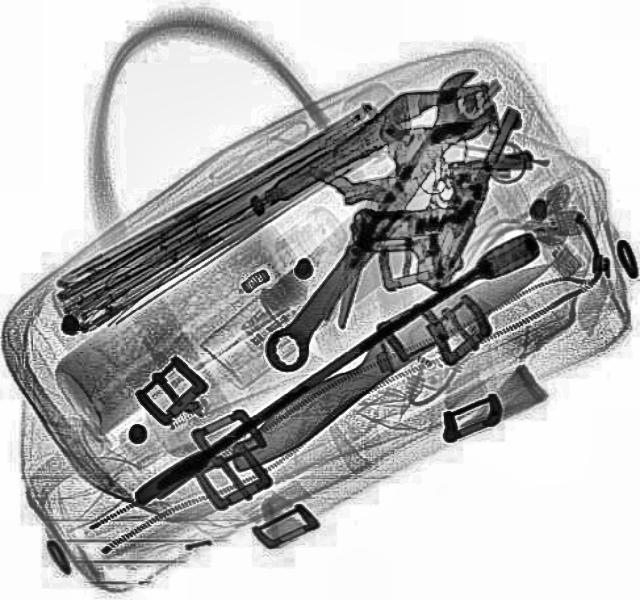Gun: (337, 79, 518, 287)
Knife: (215, 244, 561, 478)
Wrench: (244, 60, 514, 379)
